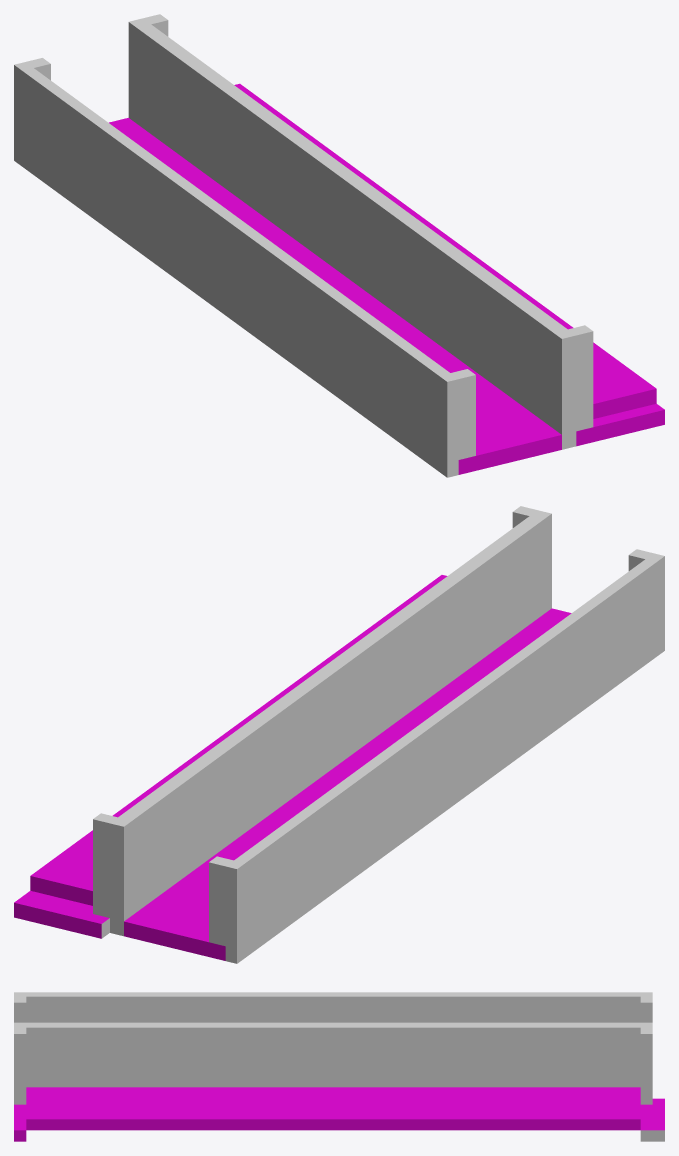
File: JuryBox.fbx
3 views of the same model, one above another, from view 1: azimuth 30°, elevation 25°; view 2: azimuth 150°, elevation 25°; view 3: azimuth 270°, elevation 25° (orthographic). The views are drawn at different scales.
Parts seen in each view (by area): view 1: Jury Box; view 2: Jury Box; view 3: Jury Box.
Boxes of the visible parts, bbox=[...] form: Jury Box: bbox=[14, 14, 664, 477]; Jury Box: bbox=[14, 506, 664, 963]; Jury Box: bbox=[14, 992, 664, 1141].
Bounding box in the file's own units: 193 × 678 × 93.98.
